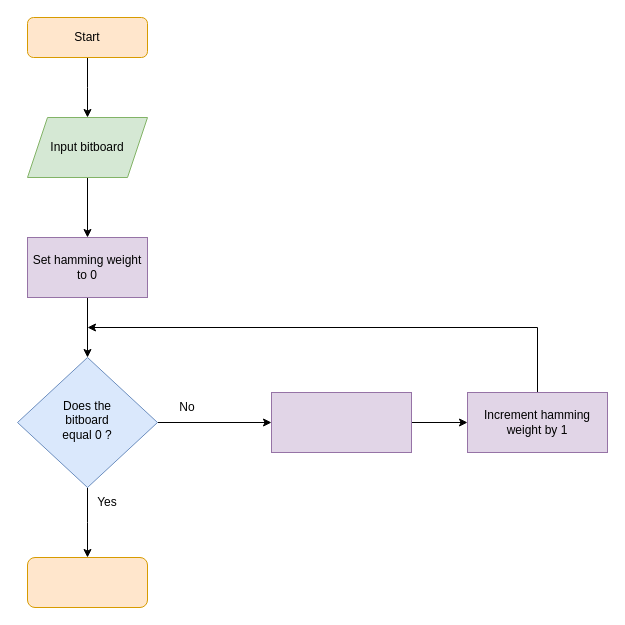
The diagram is 625 pixels wide and 625 high, and some of its shapes have lost their labels. The box of each missing label's shape, as (x1, y1, x2, y2) in pixels:
Finish (return the hamming weight): (26, 556, 148, 608)
Set the bitboard to bitboard & (bitboard -1): (270, 392, 412, 452)
